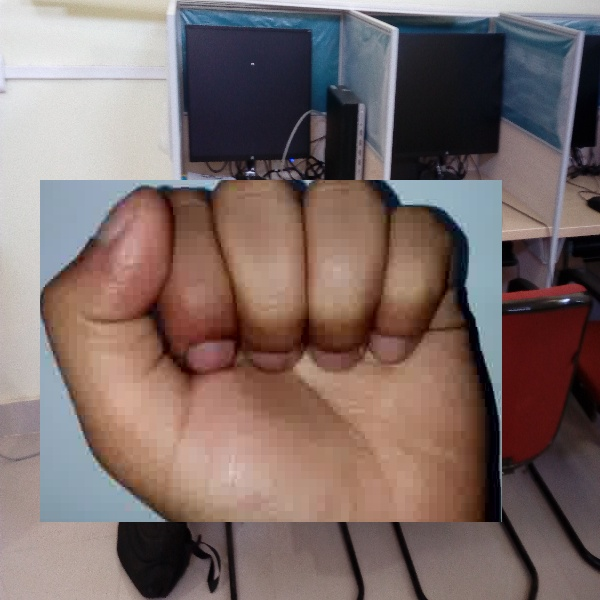A: (40, 180, 502, 522)
